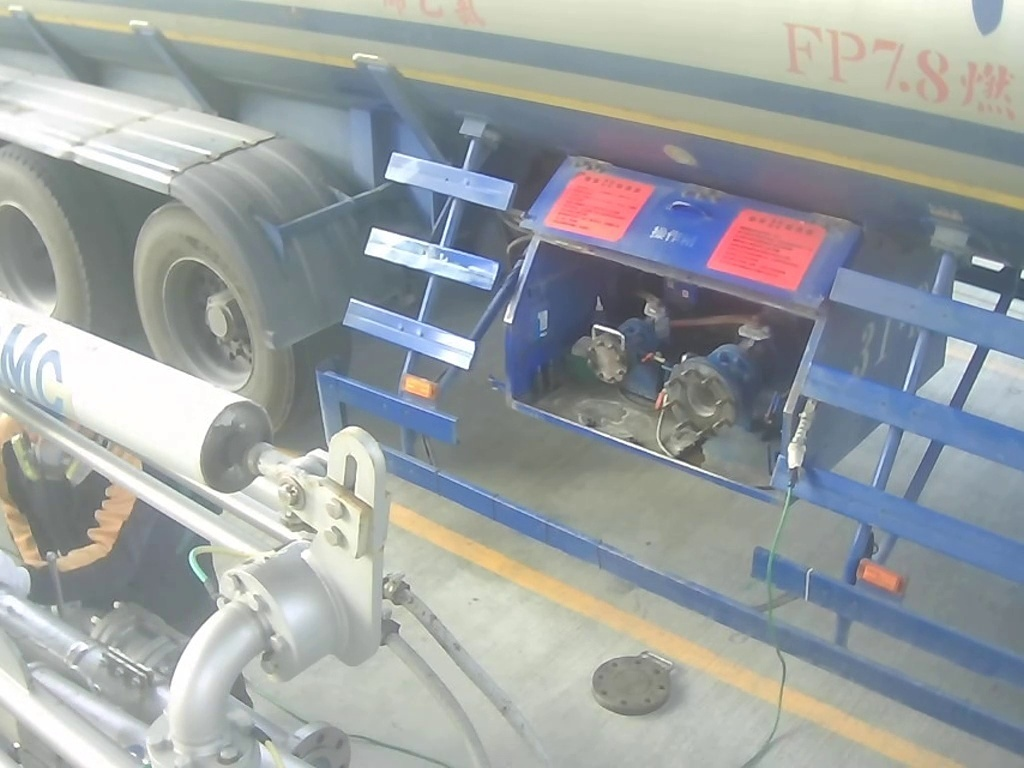helmet: (7, 361, 124, 490)
mask: (8, 433, 105, 484)
person: (0, 315, 299, 767)
